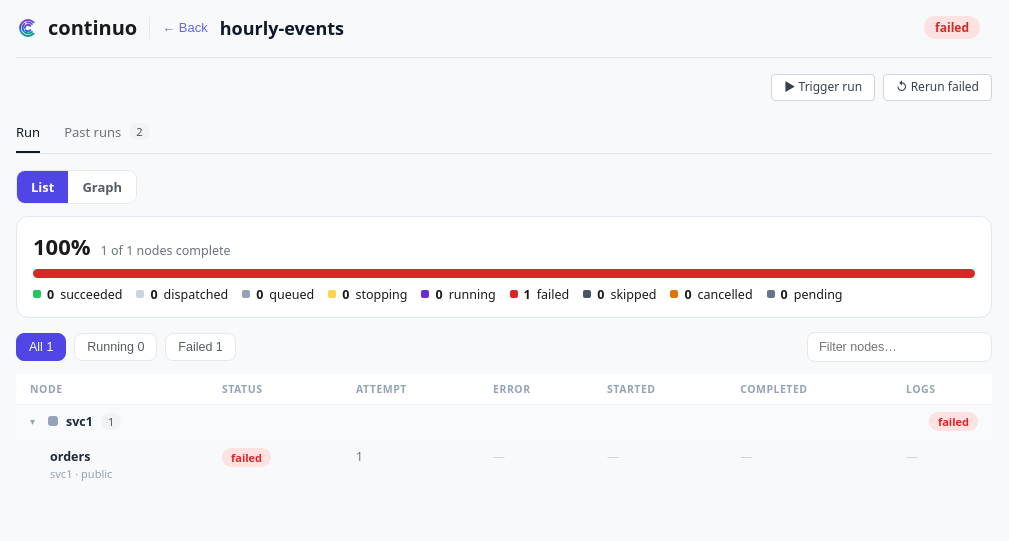
Test: DetailPage — arrival and teardown › does not show the first run's rows after another run is chosen
The image size is (1009, 541).
Expected: the text "orders" is shown, [50,448,90,465]
Click the tab "Past runs 2" at (107, 132), box [64,123,150,141]
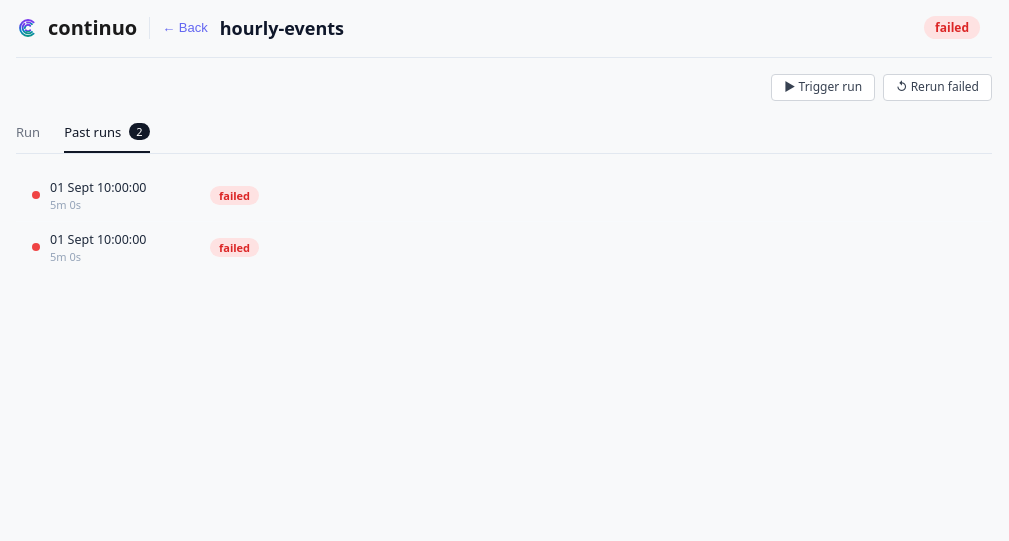
Expected: the number of buttons with class "run-row" is 2
Click the 1st button with class "run-row" at (98, 187), box [16,170,992,222]
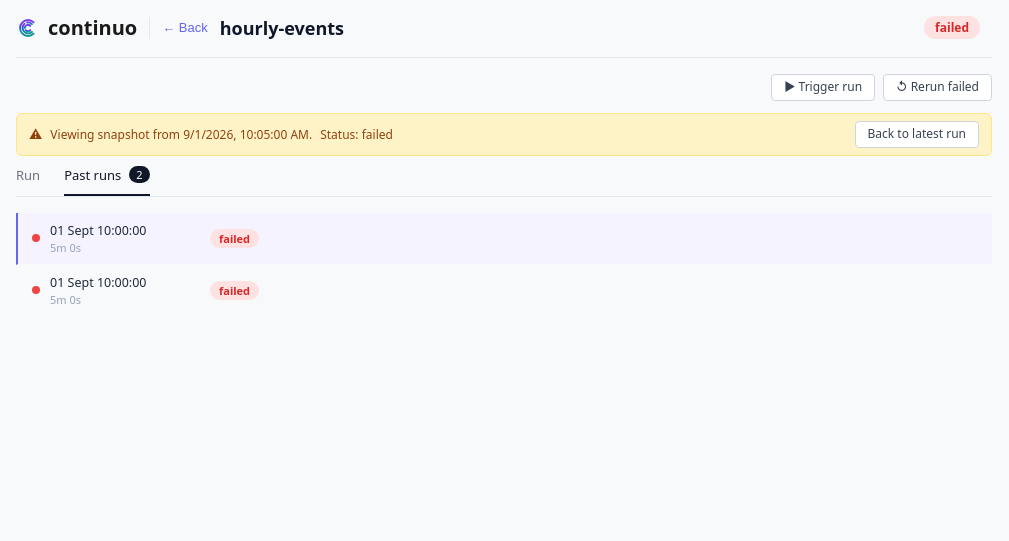
Click the 2nd button with class "run-row" at (98, 282), box [16,265,992,316]
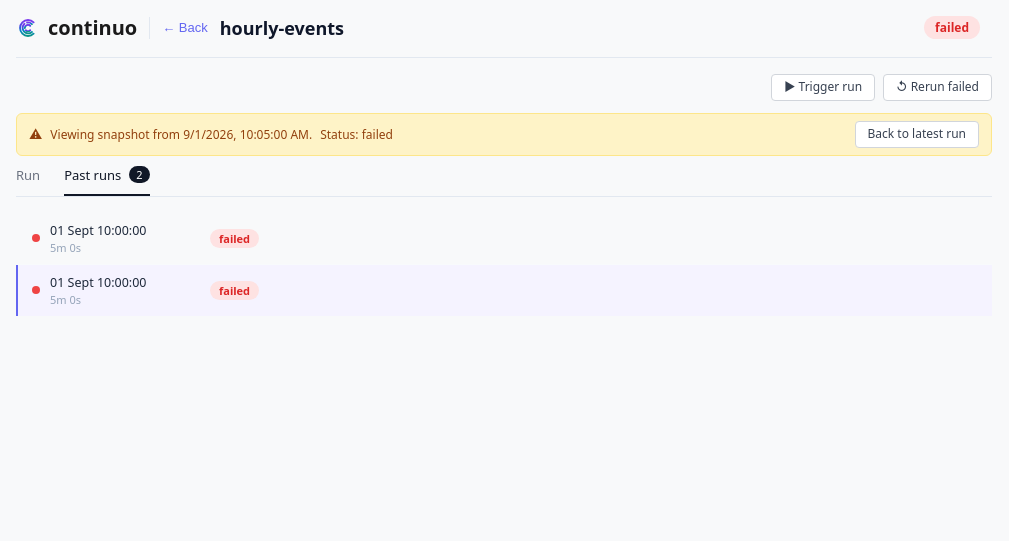
Click the tab "Run" at (28, 175), box [16,166,40,184]
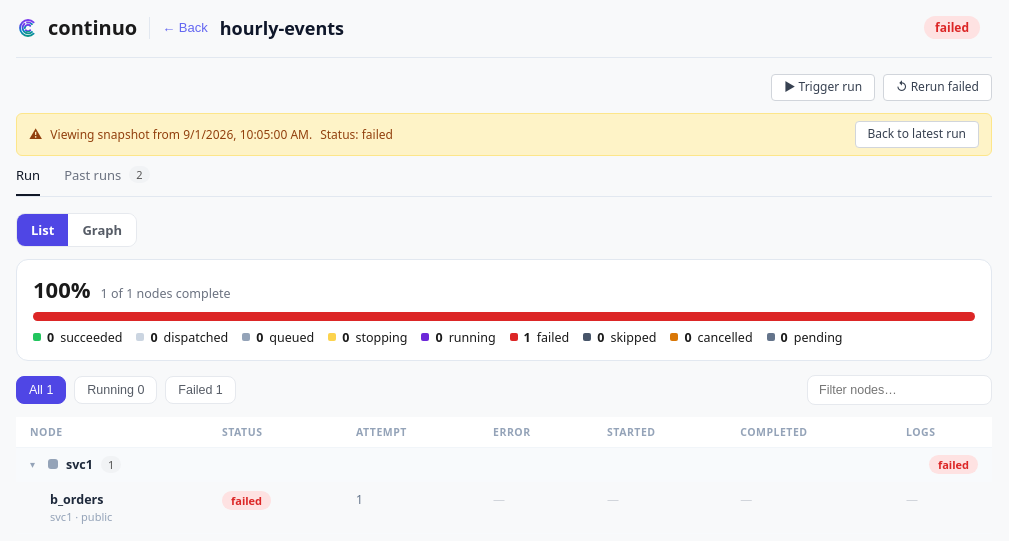
Expected: the text "b_orders" is shown, [50,491,112,508]
